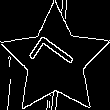L_SE: (27, 33, 83, 88)
